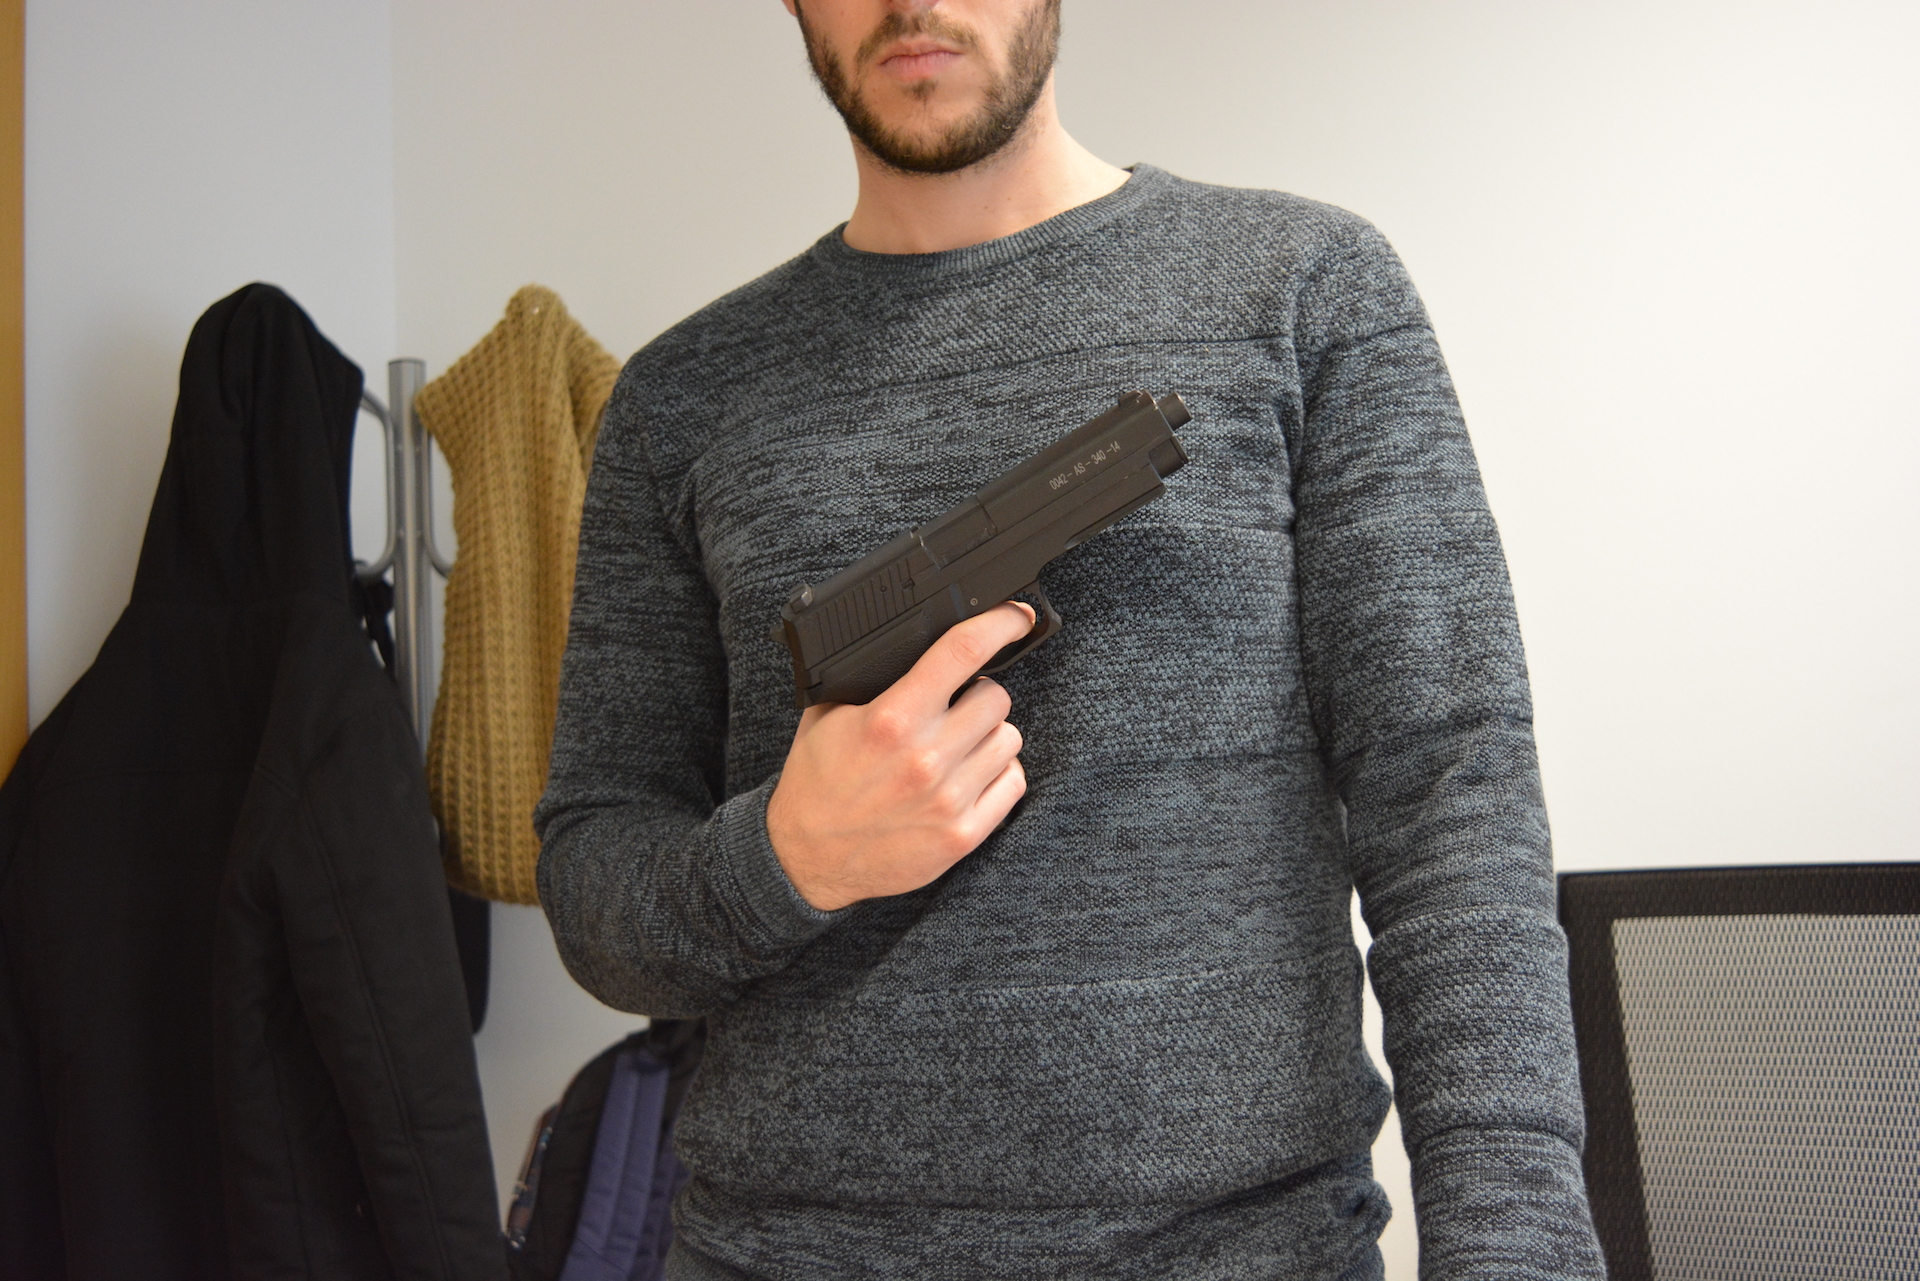pistol: (776, 383, 1195, 713)
